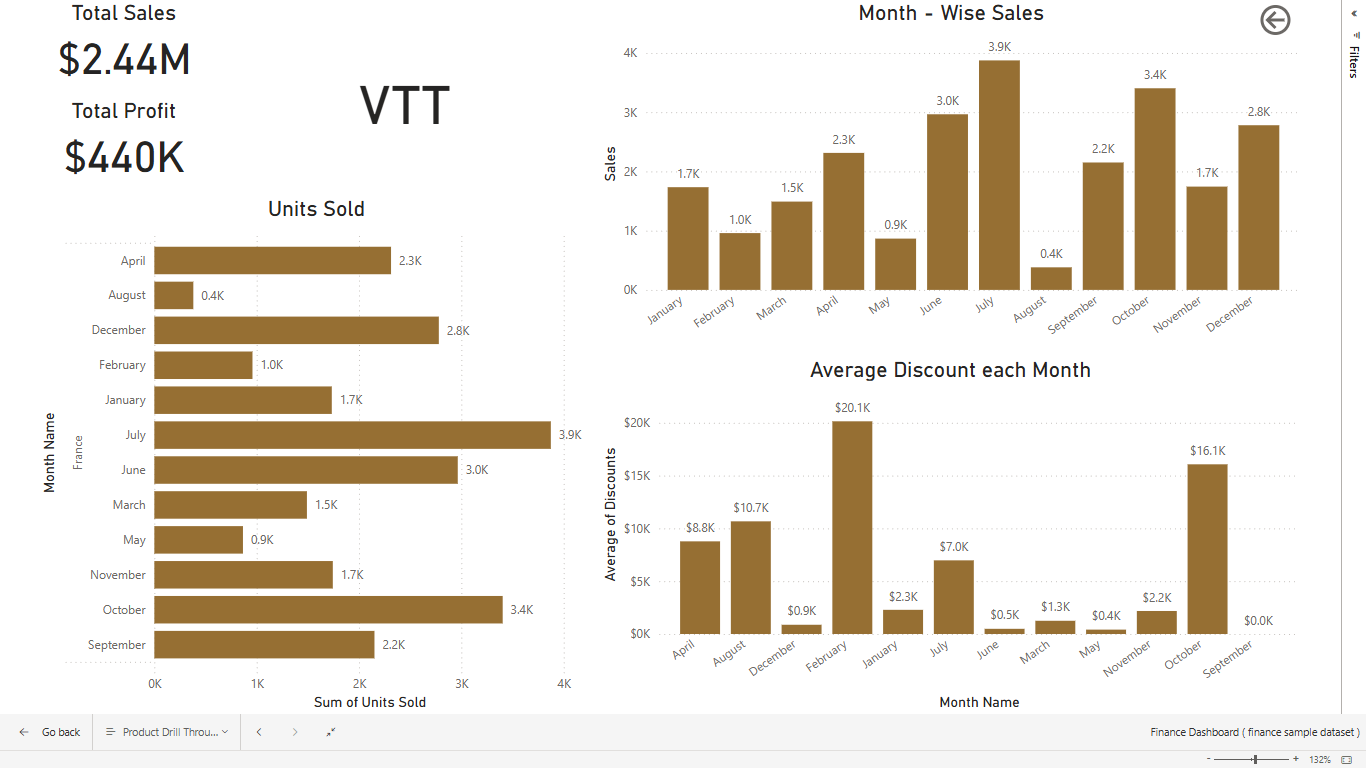

This screenshot's page, from the dashboard's own definition file:
{"tool":"powerbi","page":{"name":"Product Drill Through","canvas":[1280,720],"ordinal":3},"visuals":[{"type":"columnChart","title":"Month - Wise Sales","fields":{"Category":["financials.Month Name"],"Y":["Sum(financials.Units Sold)"]},"box":[565.7,0,714.3,360],"z":0},{"type":"card","fields":{"Values":["Min(financials.Product)"]},"box":[177.1,56.2,388.8,85],"z":1000},{"type":"actionButton","box":[1229.8,0,50.4,40.3],"z":2000},{"type":"columnChart","title":"Average Discount each Month","fields":{"Category":["financials.Month Name"],"Y":["Avg(financials.Discounts)"]},"box":[565.9,360,712.8,360],"z":3000},{"type":"barChart","title":"Units Sold","fields":{"Y":["Sum(financials.Units Sold)"],"Category":["financials.Country Hierarchy.Country","financials.Country Hierarchy.Month Name"]},"box":[0,197.3,565.9,522.7],"z":4000},{"type":"card","title":"Total Sales","fields":{"Values":["Sum(financials. Sales)"]},"box":[0,0,177.1,85],"z":5000},{"type":"card","title":"Total Profit","fields":{"Values":["Sum(financials.Profit)"]},"box":[0,99.4,177.1,85],"z":6000}]}

Visuals, with their boxes on the page's 1280x720 design canvas (x1, y1, x2, y2). These are canvas units, not pixel positions in the 1366x768 screenshot, which may show the page scaled, cropped or inside an application window:
"Month - Wise Sales" columnChart: 566/0/1280/360
card - Min(financials.Product): 177/56/566/141
actionButton: 1230/0/1280/40
"Average Discount each Month" columnChart: 566/360/1279/720
"Units Sold" barChart: 0/197/566/720
"Total Sales" card: 0/0/177/85
"Total Profit" card: 0/99/177/184
